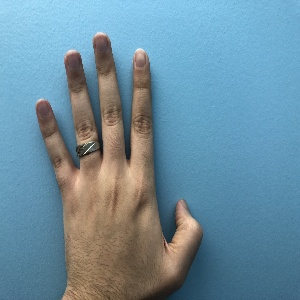hand: (35, 32, 203, 288)
